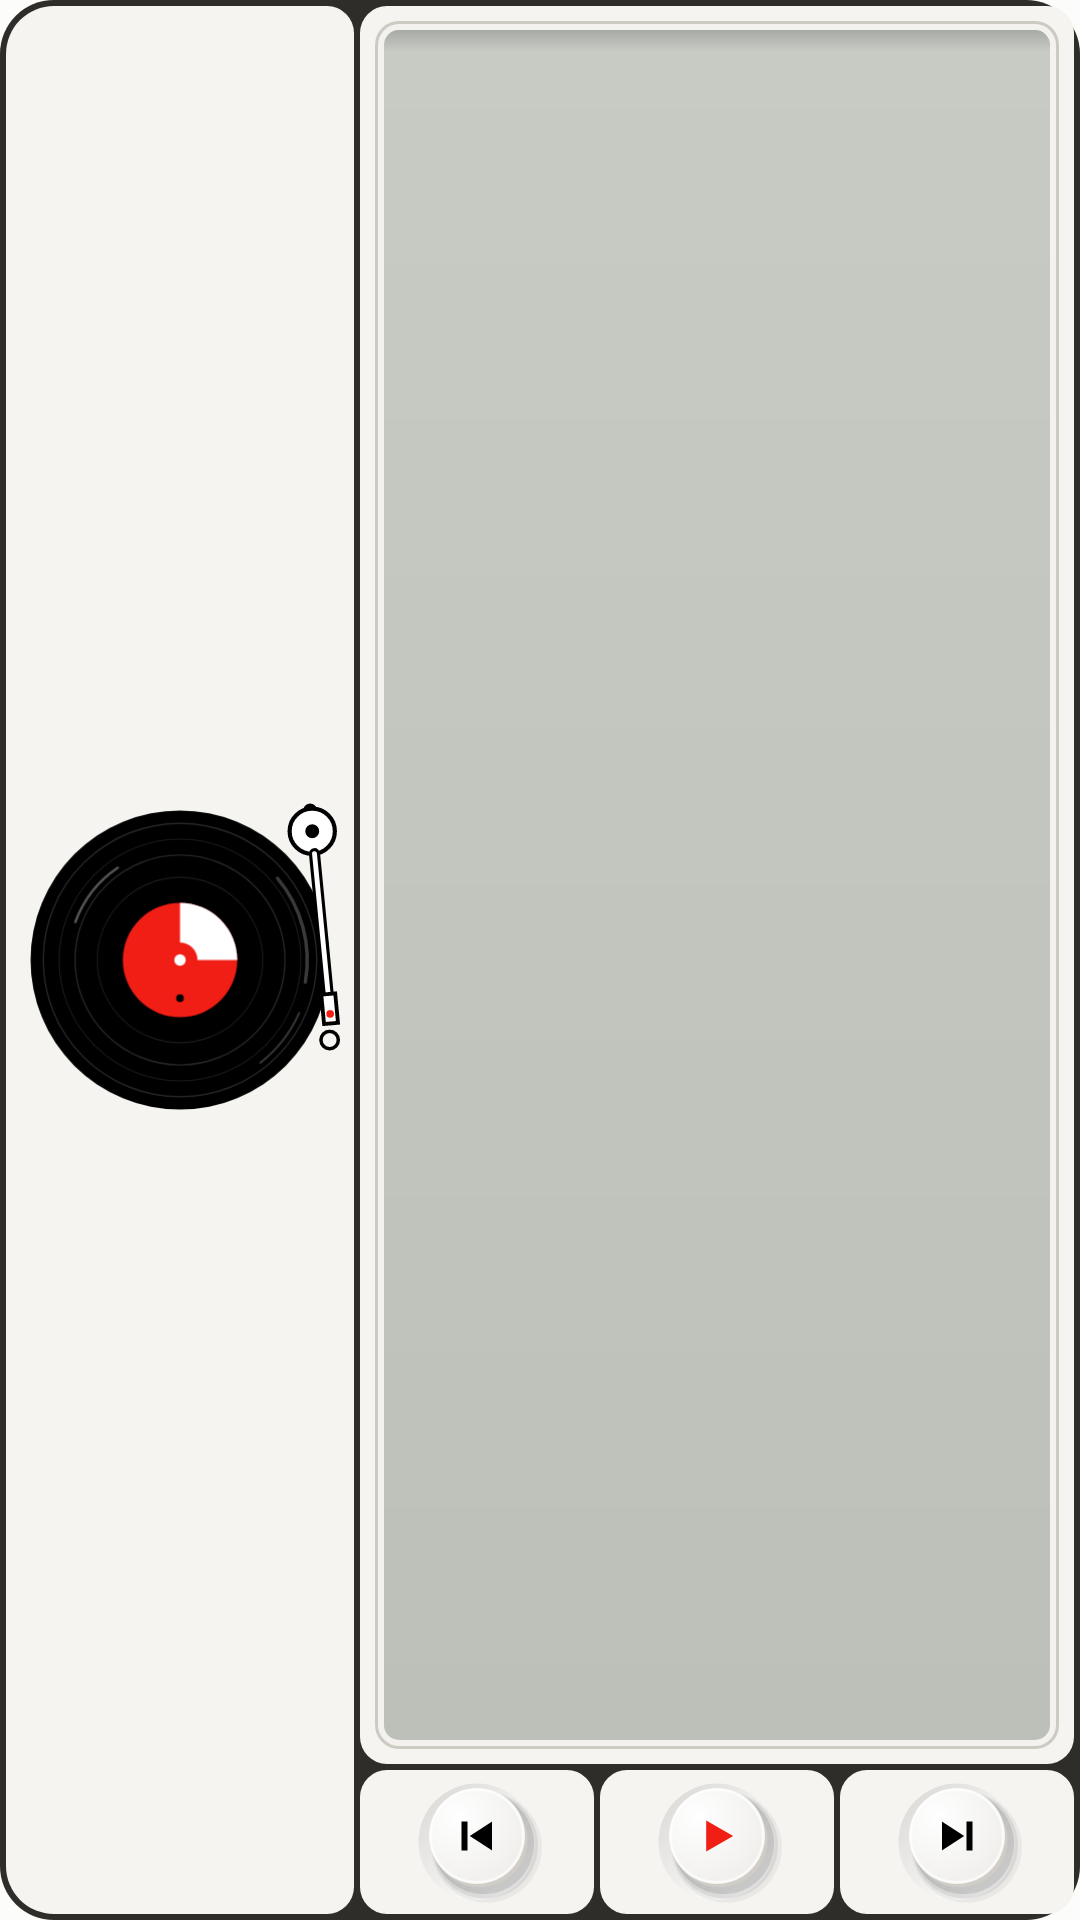

Point at icon controls on the screen. Image size 1080*1920, points as [x,y].
Next: [957,1842]
Play: [717,1842]
Previous: [477,1842]
